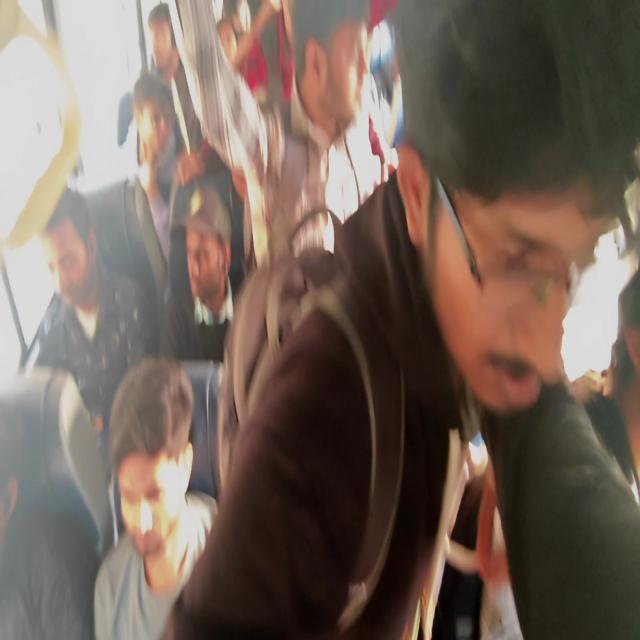person: (158, 0, 638, 638), (477, 268, 639, 638), (22, 186, 156, 543), (213, 1, 370, 271), (92, 356, 219, 638), (84, 72, 192, 346), (0, 366, 104, 638), (118, 2, 203, 164), (165, 183, 235, 362)
